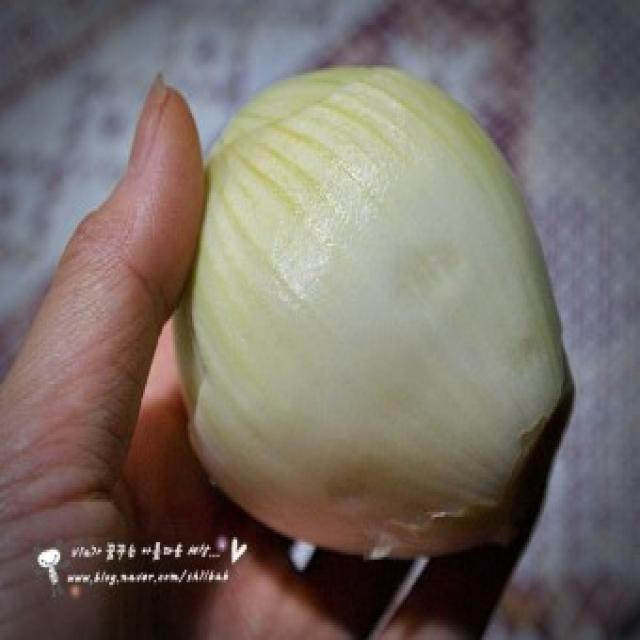onion: (118, 44, 598, 576)
